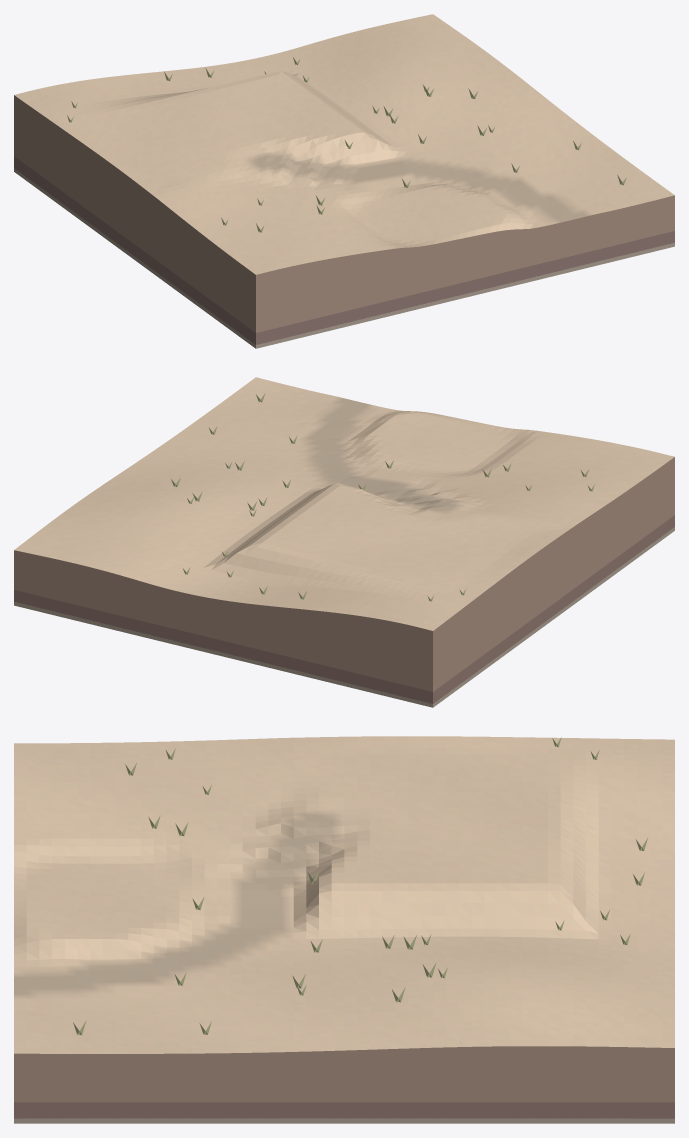
3 renders of one model, top to bottom at view 1: azimuth 30°, elevation 25°; view 2: azimuth 150°, elevation 25°; view 3: azimuth 270°, elevation 25°, orthographic. The views are drawn at different scales.
Parts seen in each view (by area): view 1: proc_ground, proc_skirt, proc_grass; view 2: proc_ground, proc_skirt, proc_grass; view 3: proc_ground, proc_skirt, proc_grass.
Part boxes in pixels (left/top/right/bottom): proc_ground: left=14, top=14, right=674, bottom=274; proc_skirt: left=14, top=95, right=674, bottom=348; proc_grass: left=67, top=57, right=626, bottom=232; proc_ground: left=14, top=377, right=674, bottom=630; proc_skirt: left=14, top=457, right=674, bottom=707; proc_grass: left=171, top=393, right=594, bottom=601; proc_ground: left=14, top=736, right=674, bottom=1053; proc_skirt: left=14, top=1046, right=674, bottom=1123; proc_grass: left=73, top=737, right=647, bottom=1035.
Size of the model in its own units: 8 by 1.55 by 8.
